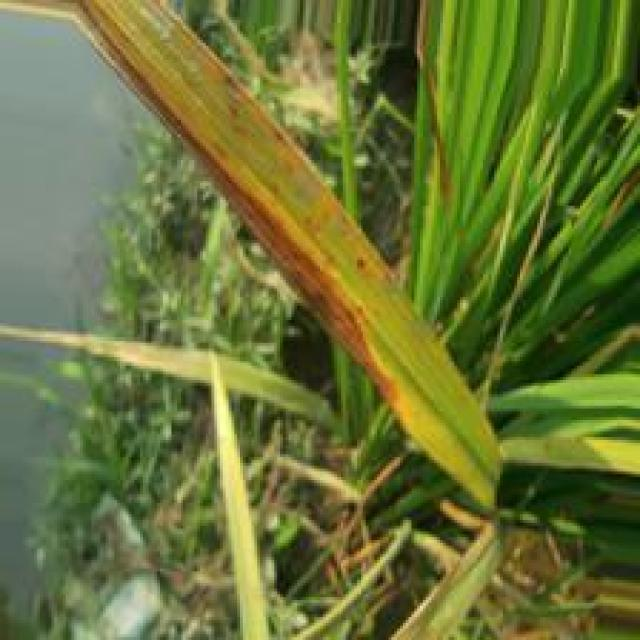Bacterial_Leaf_Blight: (66, 0, 430, 453), (120, 0, 399, 280)
